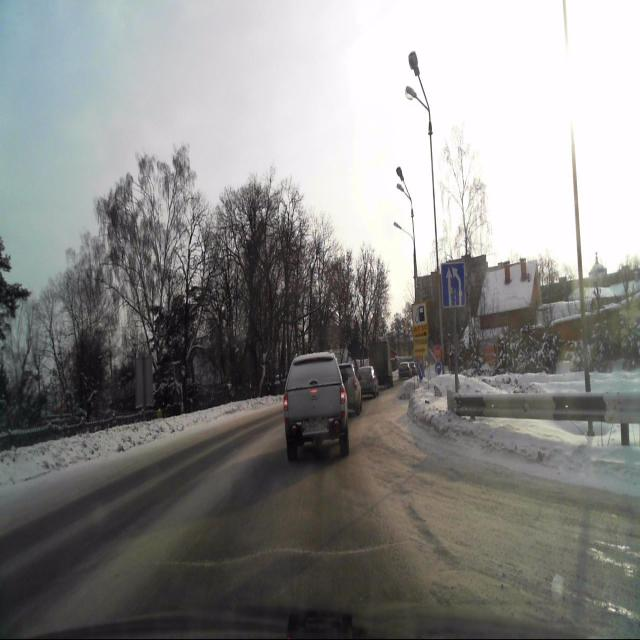road sign: (442, 262, 465, 308)
